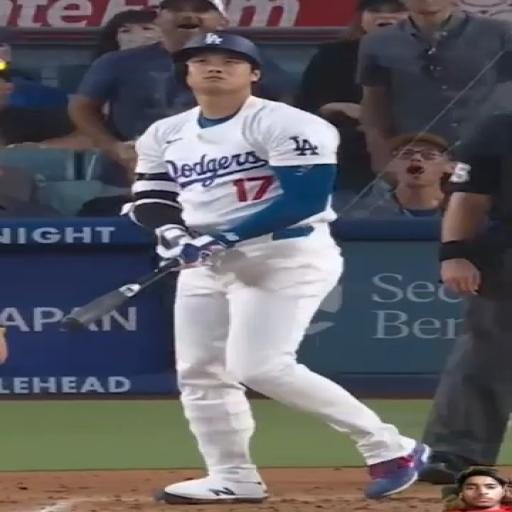bat: (62, 259, 180, 331)
